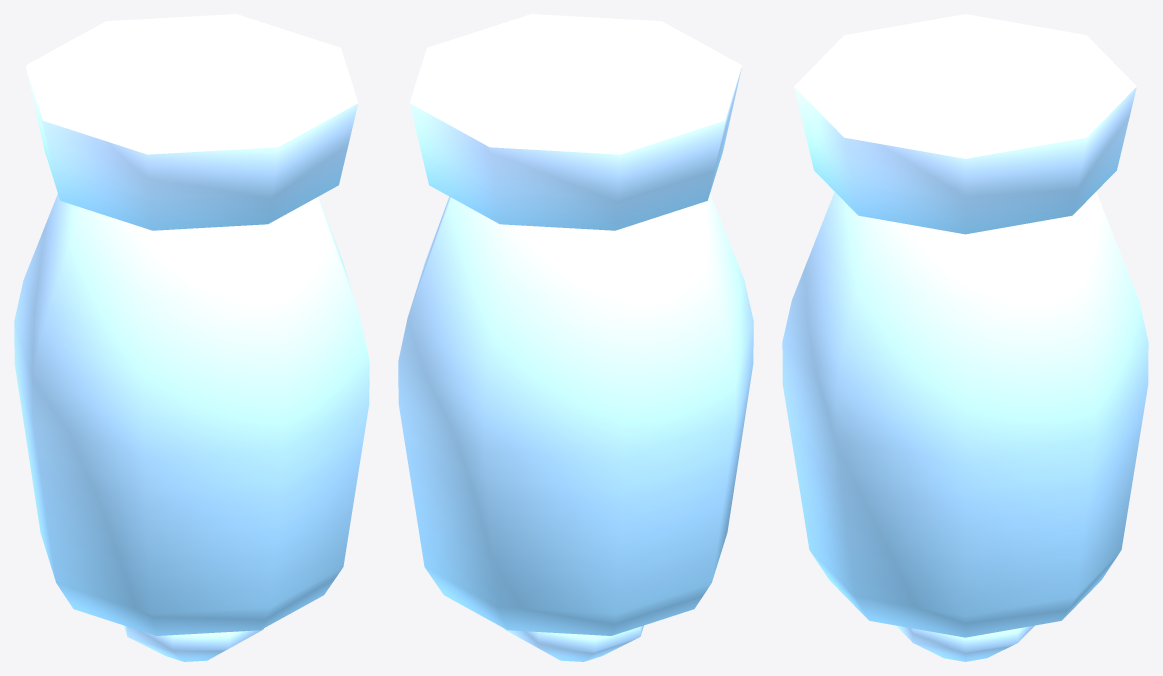
The model's file is steel_pommel_095.glb.
The picture shows the model from 3 angles, left to right: view 1: azimuth 30°, elevation 25°; view 2: azimuth 150°, elevation 25°; view 3: azimuth 270°, elevation 25°; orthographic projection.
Visible parts, largest first — view 1: steel_pommel_095; view 2: steel_pommel_095; view 3: steel_pommel_095.
Part boxes in pixels (x1,y1,x2,y2): steel_pommel_095: (14,14,369,661); steel_pommel_095: (398,14,753,661); steel_pommel_095: (782,14,1148,661).
Size of the model in its own units: 1.37 by 2.32 by 1.37.
Materials: 1 (1 with a texture image).
